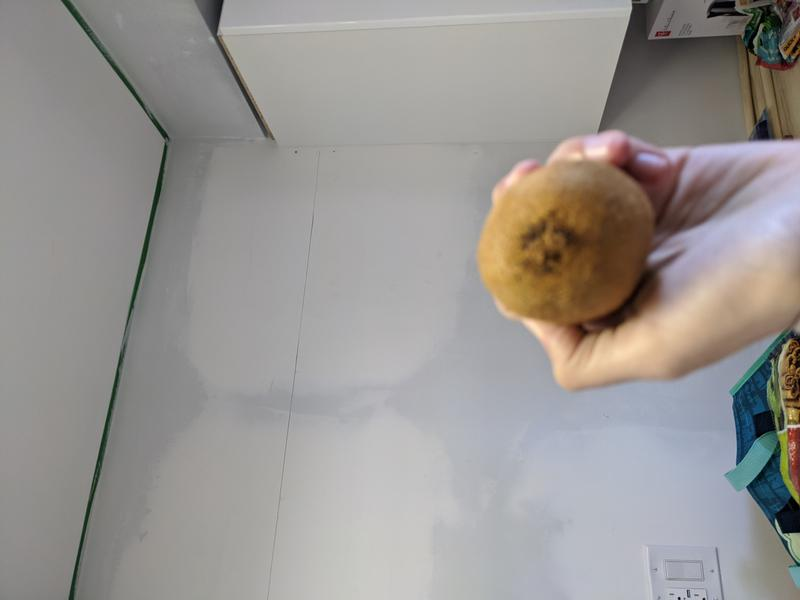kiwi: (476, 159, 657, 325)
